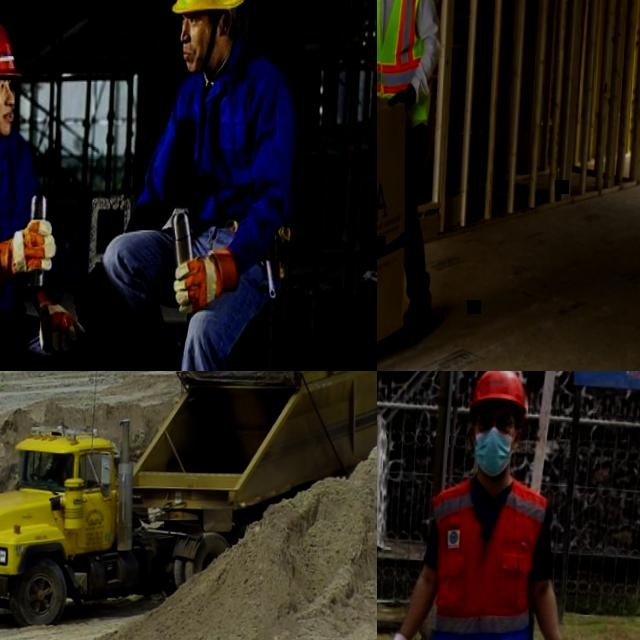Hardhat: (467, 371, 531, 411), (0, 12, 22, 85)
Mask: (471, 426, 517, 478)
NO-Mask: (181, 44, 213, 70), (0, 102, 13, 133)
NO-Safety Vest: (166, 55, 272, 230), (0, 124, 29, 304)
Person: (87, 0, 306, 371), (377, 371, 602, 640), (0, 9, 100, 371), (377, 0, 449, 344), (41, 454, 70, 483)
Safety Vest: (426, 474, 550, 640), (377, 0, 439, 117), (52, 461, 69, 481)
machinery: (0, 371, 377, 640)
